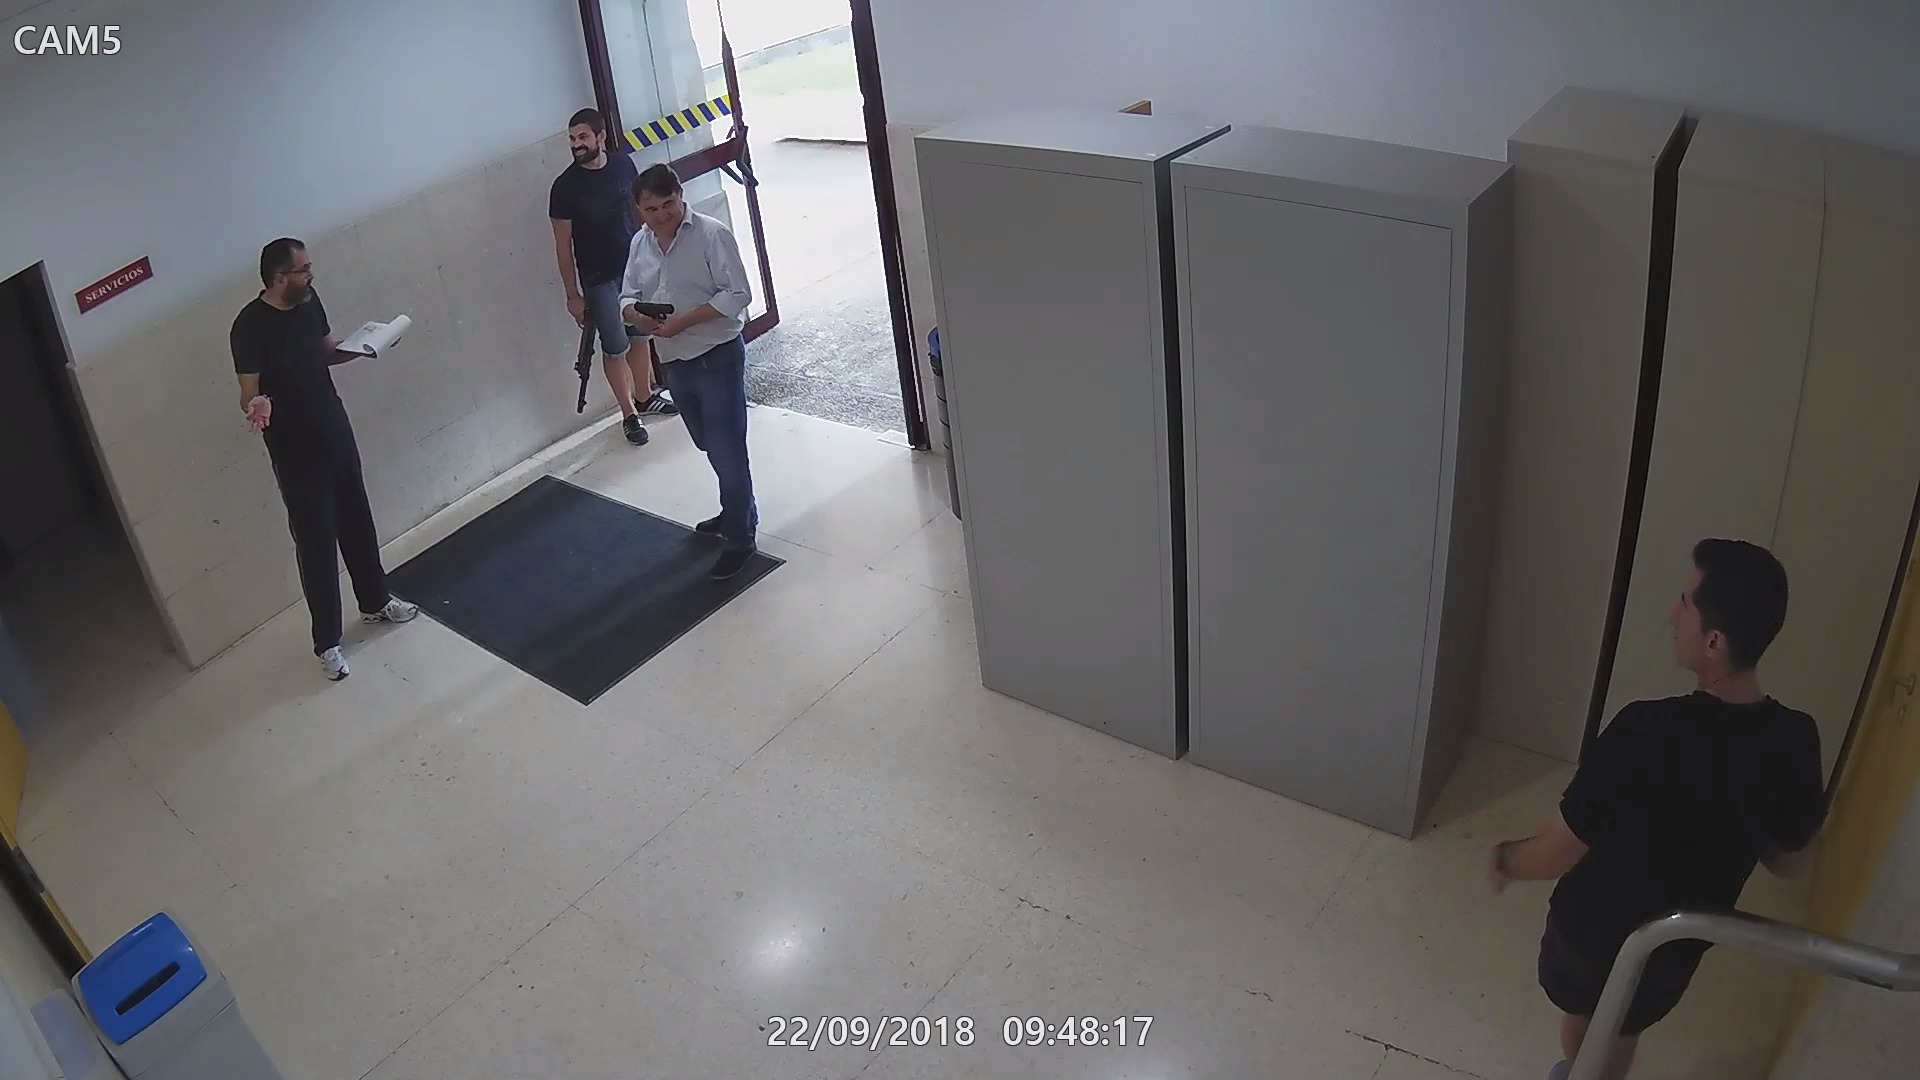Handgun: (632, 301, 675, 334)
Short_rifle: (564, 293, 600, 415)
